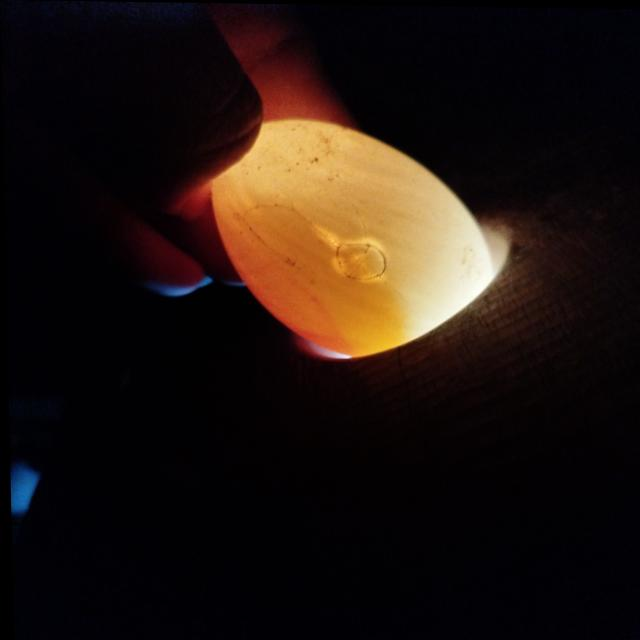Gema Quebrada: (212, 206, 348, 356)
Rachadura: (242, 191, 406, 300)
